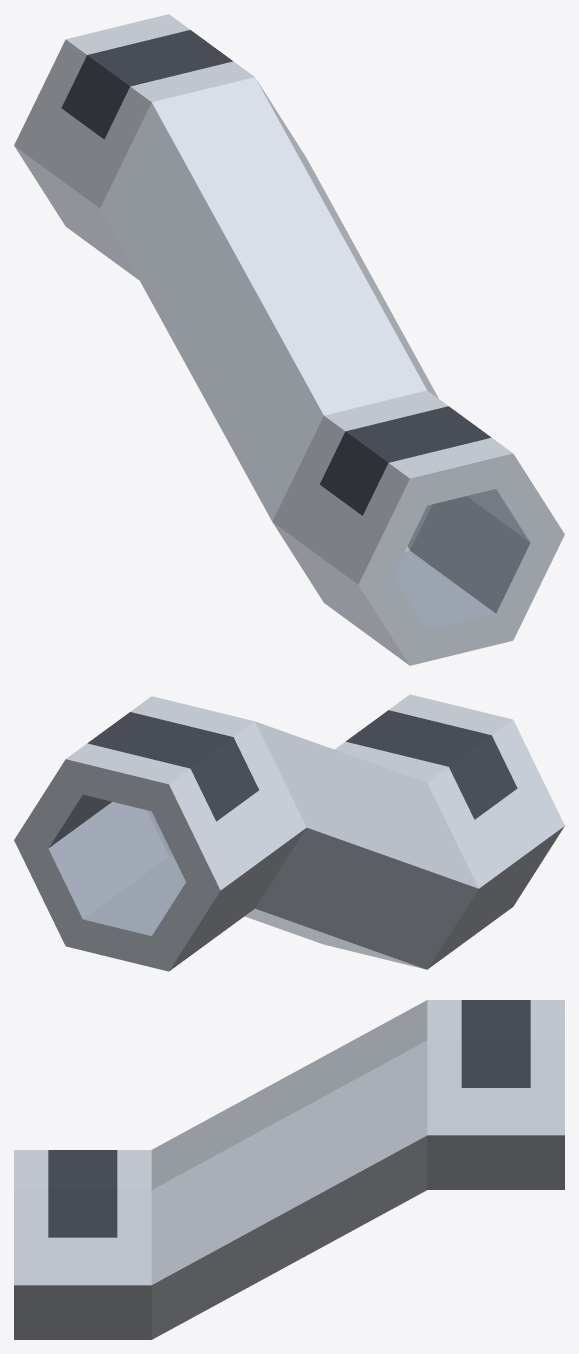
Rendered from pipe_rampLarge.dae.
3 views of the same model, one above another, from view 1: azimuth 30°, elevation 25°; view 2: azimuth 150°, elevation 25°; view 3: azimuth 270°, elevation 25° (orthographic). The views are drawn at different scales.
Visible parts, largest first — view 1: pipe_rampLarge; view 2: pipe_rampLarge; view 3: pipe_rampLarge.
Boxes of the visible parts, x1=… form: pipe_rampLarge: x1=14, y1=14, x2=564, y2=665; pipe_rampLarge: x1=14, y1=694, x2=564, y2=971; pipe_rampLarge: x1=14, y1=1000, x2=564, y2=1339.
Bounding box in the file's own units: 0.6928 × 1.2 × 2.
